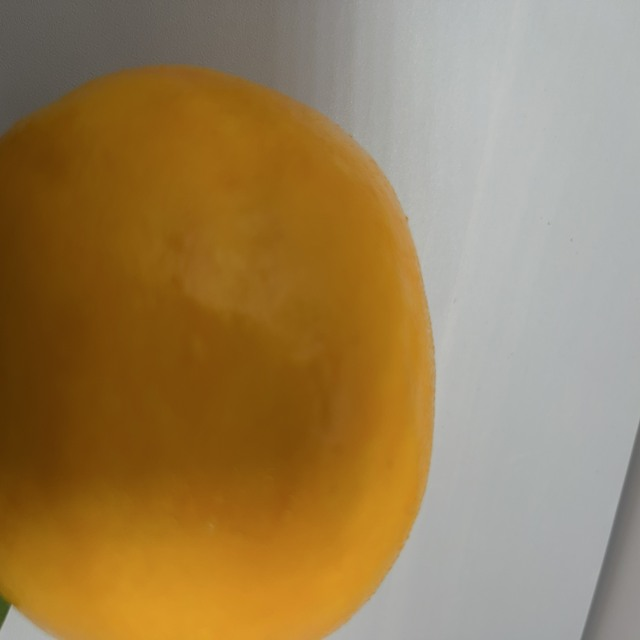Cam vang: (0, 67, 442, 640)
